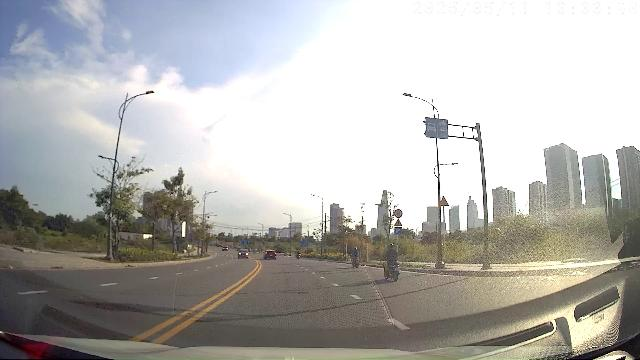127-toc-do-toi-da-50: (394, 209, 403, 218)
